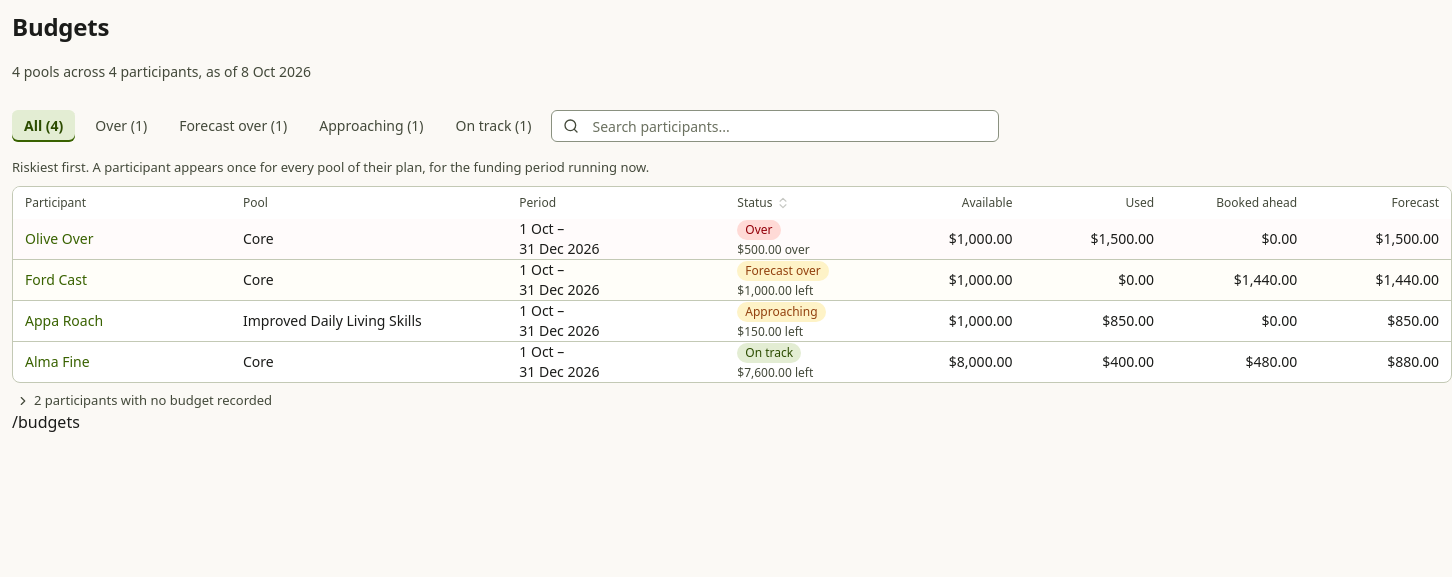
Test: BudgetsPage: the participants with no budget in force › lists them when the count is opened, each with why and a way to record a budget
The image size is (1452, 577).
Click the button "2 participants with no budget recorded" at [144, 401], box x1=12 y1=391 x2=276 y2=410
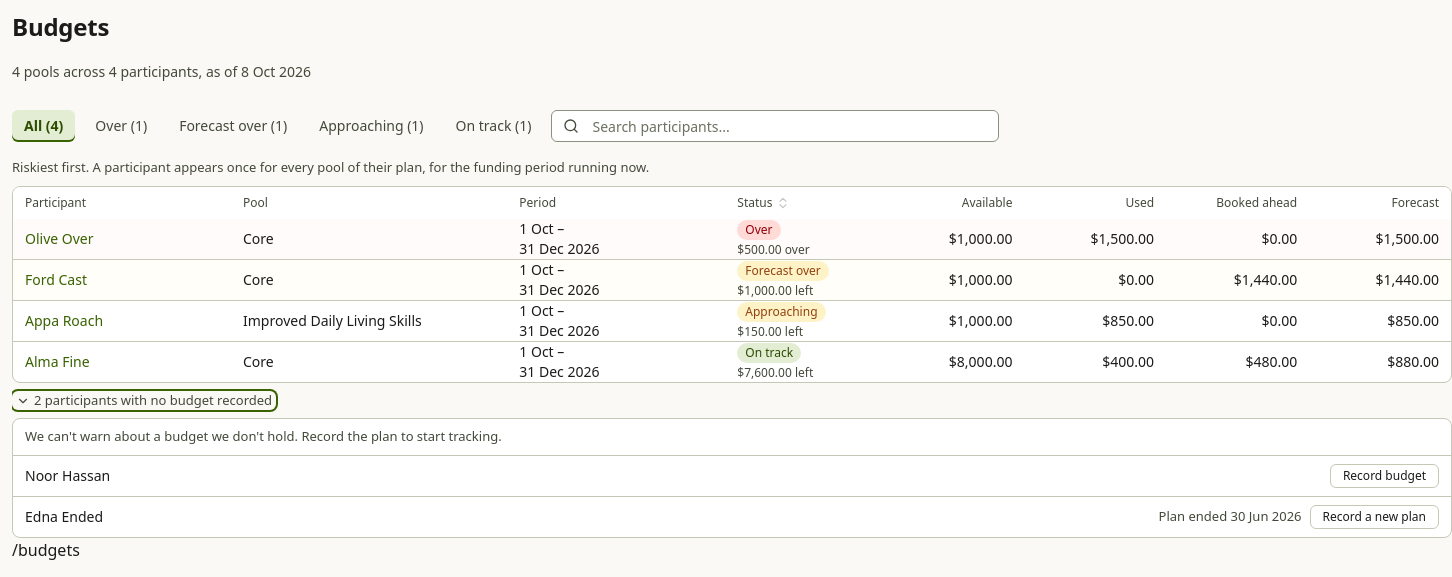
Check: the text "Noor Hassan" is shown, box x1=25 y1=466 x2=110 y2=486
Check: the text "Edna Ended" is shown, box x1=25 y1=507 x2=103 y2=527
Check: the text "Plan ended 30 Jun 2026" is shown, box x1=1158 y1=507 x2=1302 y2=526
